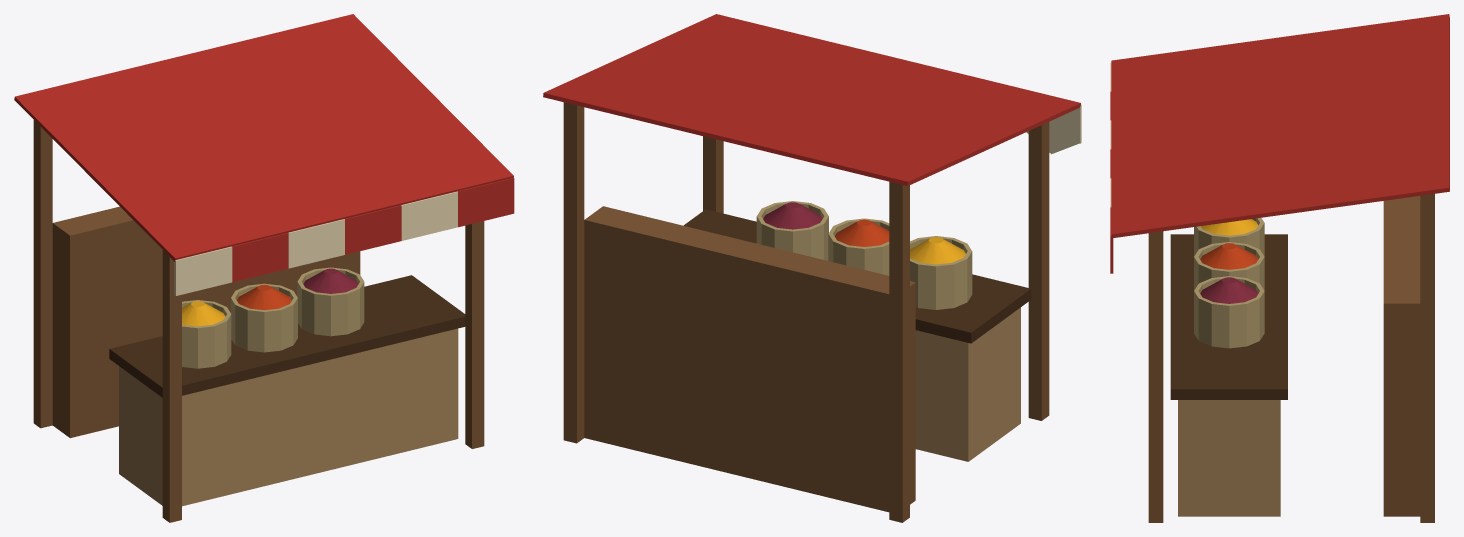
The model's file is dc_market_stall.glb.
The picture shows the model from 3 angles, left to right: view 1: azimuth 30°, elevation 25°; view 2: azimuth 150°, elevation 25°; view 3: azimuth 270°, elevation 25°; orthographic projection. The views are drawn at different scales.
Visible parts, largest first — view 1: dc_market_stall; view 2: dc_market_stall; view 3: dc_market_stall.
Boxes of the visible parts, x1=… form: dc_market_stall: x1=14, y1=14, x2=514, y2=522; dc_market_stall: x1=543, y1=14, x2=1081, y2=522; dc_market_stall: x1=1110, y1=14, x2=1449, y2=522.
Bounding box in the file's own units: 2.8 × 2.57 × 2.31.
